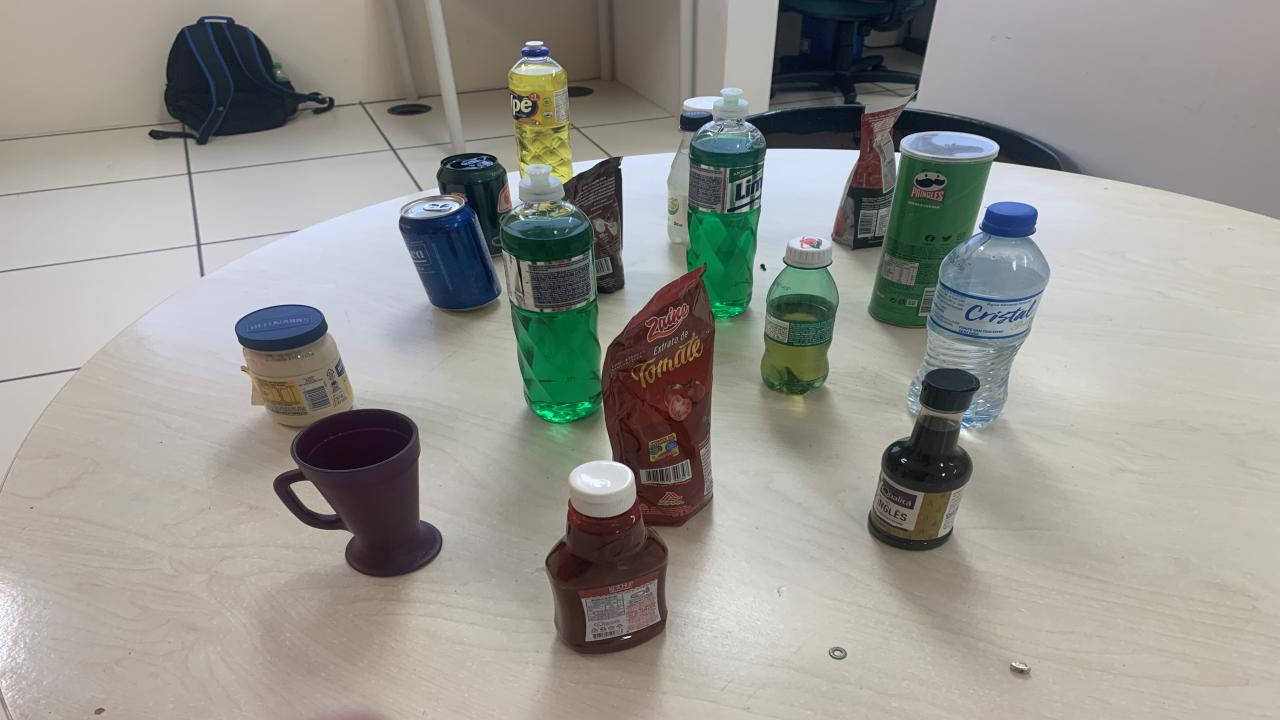Cleaner-Cleanup_Items: (682, 96, 720, 112)
Coffee-Pantry_Items: (565, 158, 625, 292)
Detergent-Cleanup_Items: (500, 165, 602, 422), (688, 88, 765, 319), (508, 41, 572, 182)
English_Sauce-Pantry_Items: (868, 369, 980, 549)
Guarana-Drinks: (760, 236, 840, 394)
Guarana_Can-Drinks: (438, 152, 512, 255)
Ketchup-Pantry_Items: (545, 461, 668, 654)
Mayonnaise-Pantry_Items: (235, 304, 352, 428)
Pringles-Snacks: (868, 131, 1000, 328)
Soda-Drinks: (668, 111, 712, 246), (668, 131, 695, 244)
Tomato_Sauce-Pantry_Items: (602, 266, 715, 525), (832, 105, 905, 249)
Tonic-Drinks: (400, 195, 500, 309)
Water_Bottle-Drinks: (908, 202, 1050, 428)
